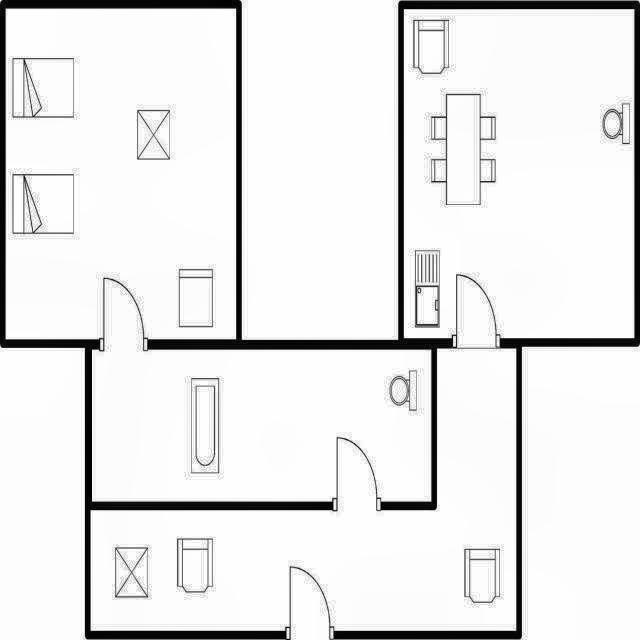room: (90, 348, 516, 631), (5, 8, 236, 340), (404, 9, 634, 338), (92, 349, 431, 502)
